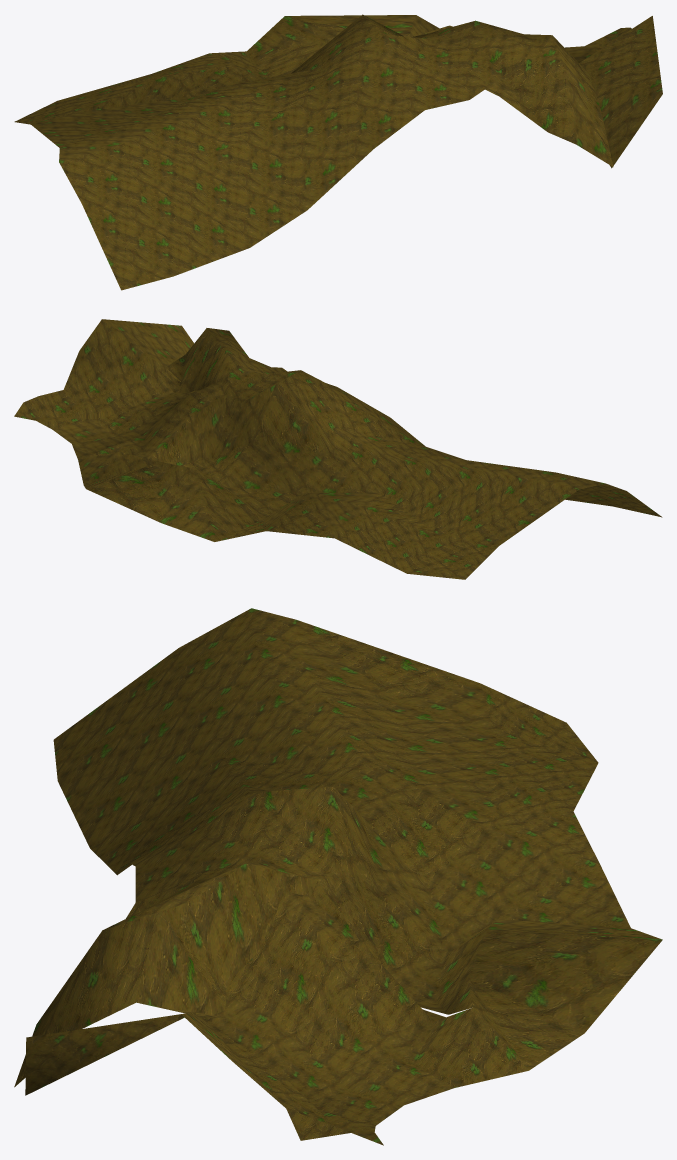
Rendered from MIRKWOOD_AREA2_BARRIER.fbx.
3 renders of one model, top to bottom at view 1: azimuth 30°, elevation 25°; view 2: azimuth 150°, elevation 25°; view 3: azimuth 270°, elevation 25°, orthographic. The views are drawn at different scales.
Visible parts, largest first — view 1: MIRKWOOD_AREA2_BARRIER; view 2: MIRKWOOD_AREA2_BARRIER; view 3: MIRKWOOD_AREA2_BARRIER.
Boxes of the visible parts, bbox=[...] form: MIRKWOOD_AREA2_BARRIER: bbox=[14, 14, 662, 290]; MIRKWOOD_AREA2_BARRIER: bbox=[14, 319, 662, 579]; MIRKWOOD_AREA2_BARRIER: bbox=[14, 608, 662, 1145].
Bounding box in the file's own units: 1467297 × 304737 × 859685.
1 material, 1 textured.
